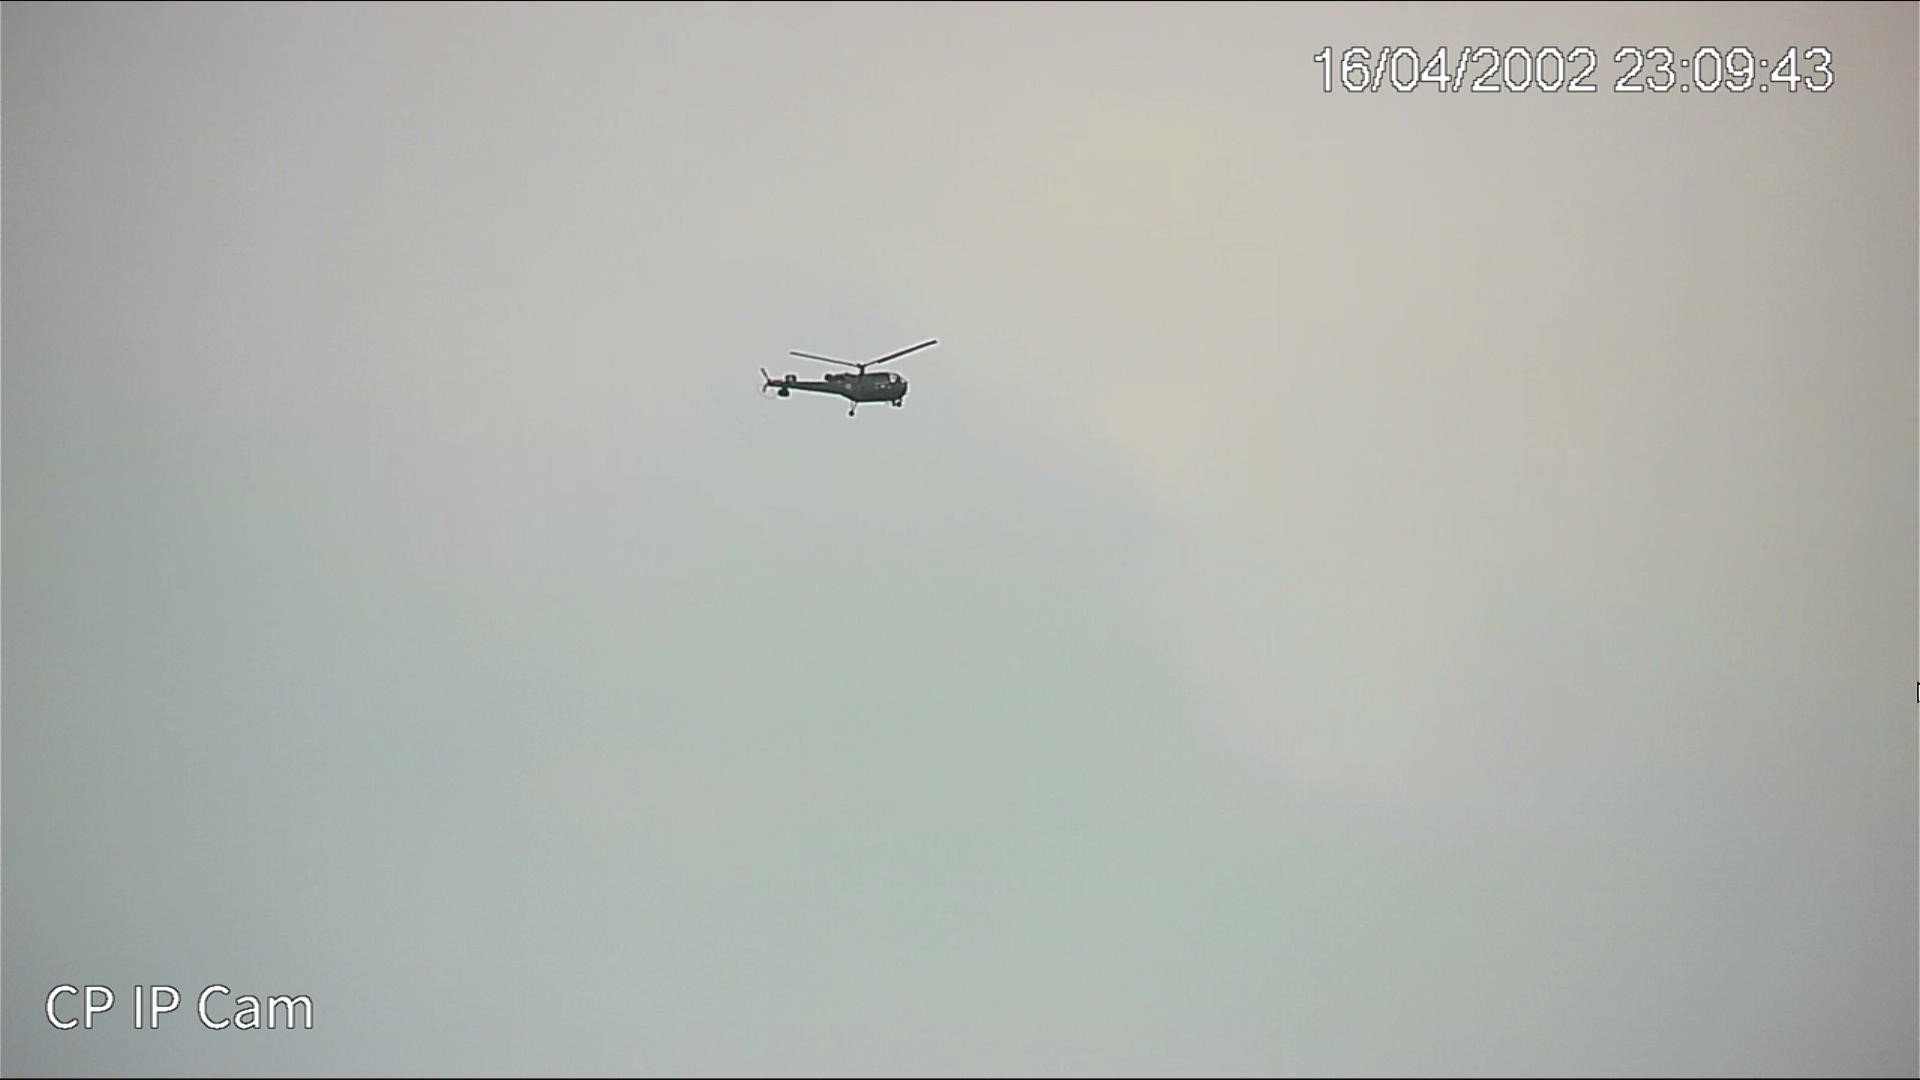SU_30: (752, 359, 918, 407)
